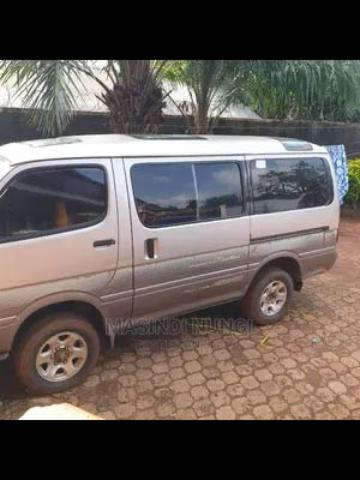van: (0, 133, 338, 394)
